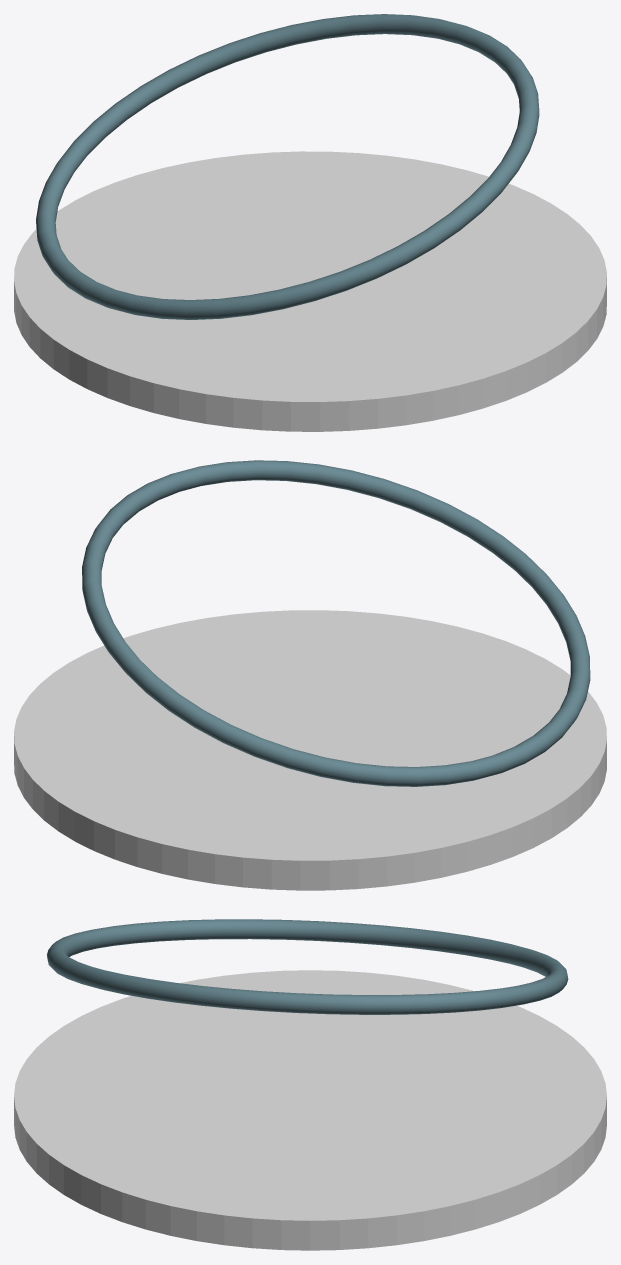
The model's file is infotisch.glb.
The picture shows the model from 3 angles, top to bottom: view 1: azimuth 30°, elevation 25°; view 2: azimuth 150°, elevation 25°; view 3: azimuth 270°, elevation 25°; orthographic projection.
Parts seen in each view (by area): view 1: Cylinder.001, BezierCircle; view 2: Cylinder.001, BezierCircle; view 3: Cylinder.001, BezierCircle.
Boxes of the visible parts, bbox=[...] form: Cylinder.001: bbox=[14, 151, 606, 431]; BezierCircle: bbox=[36, 14, 539, 319]; Cylinder.001: bbox=[14, 610, 606, 890]; BezierCircle: bbox=[82, 460, 590, 786]; Cylinder.001: bbox=[14, 970, 606, 1250]; BezierCircle: bbox=[47, 919, 568, 1014].
Size of the model in its own units: 0.9 by 0.3703 by 0.9.
